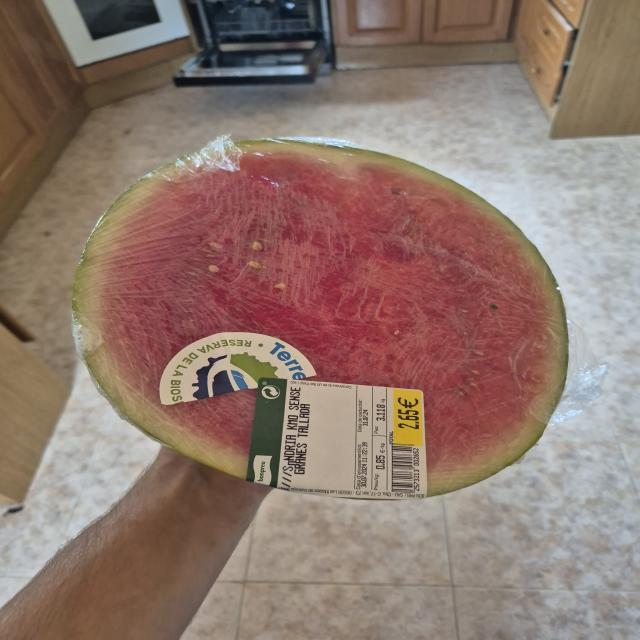sandia: (70, 141, 572, 500)
